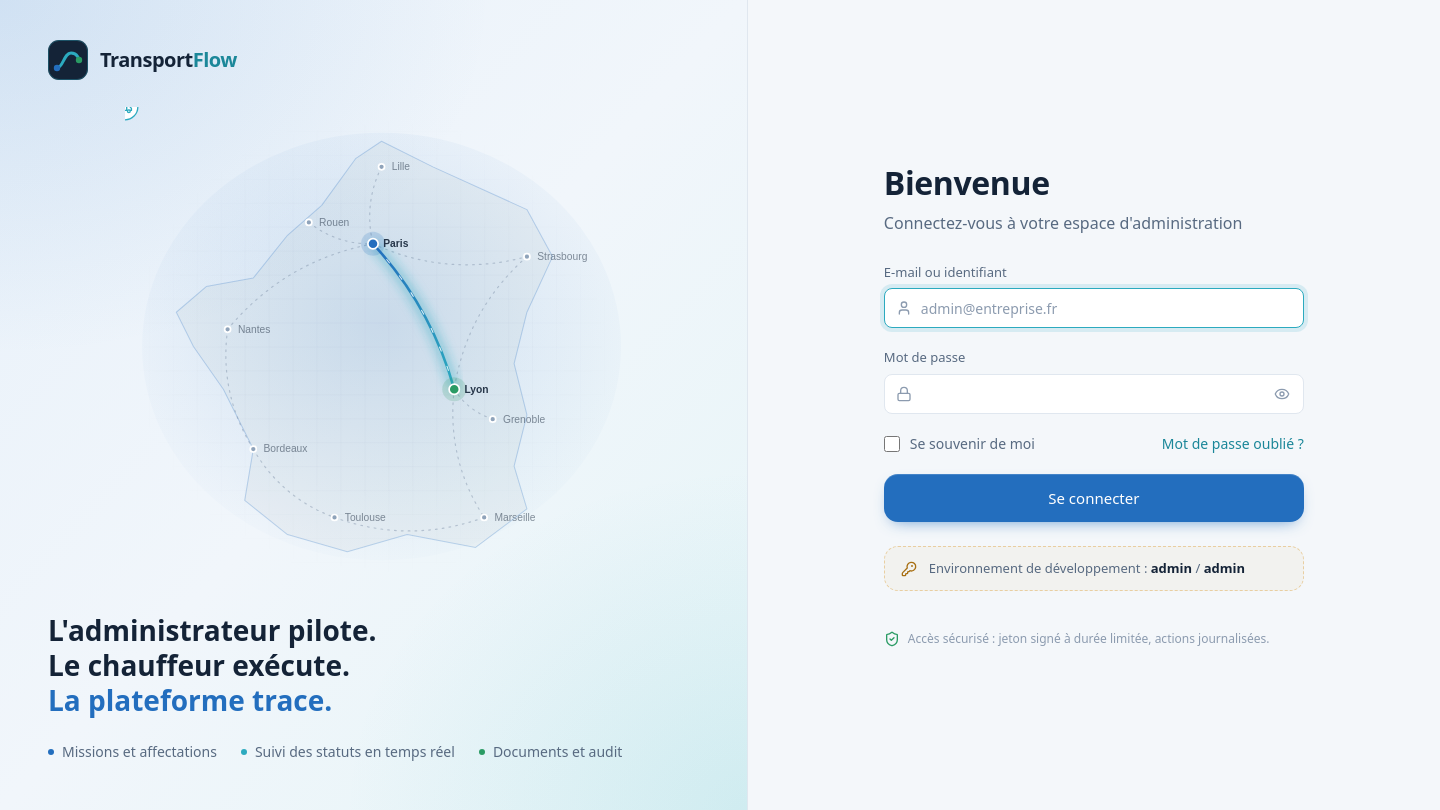
Test: Connexion › refuse un compte chauffeur sur l’administration
Step 1. Type "chauffeur" into the field labelled "E-mail ou identifiant" → (1094, 308), box [884, 288, 1304, 328]
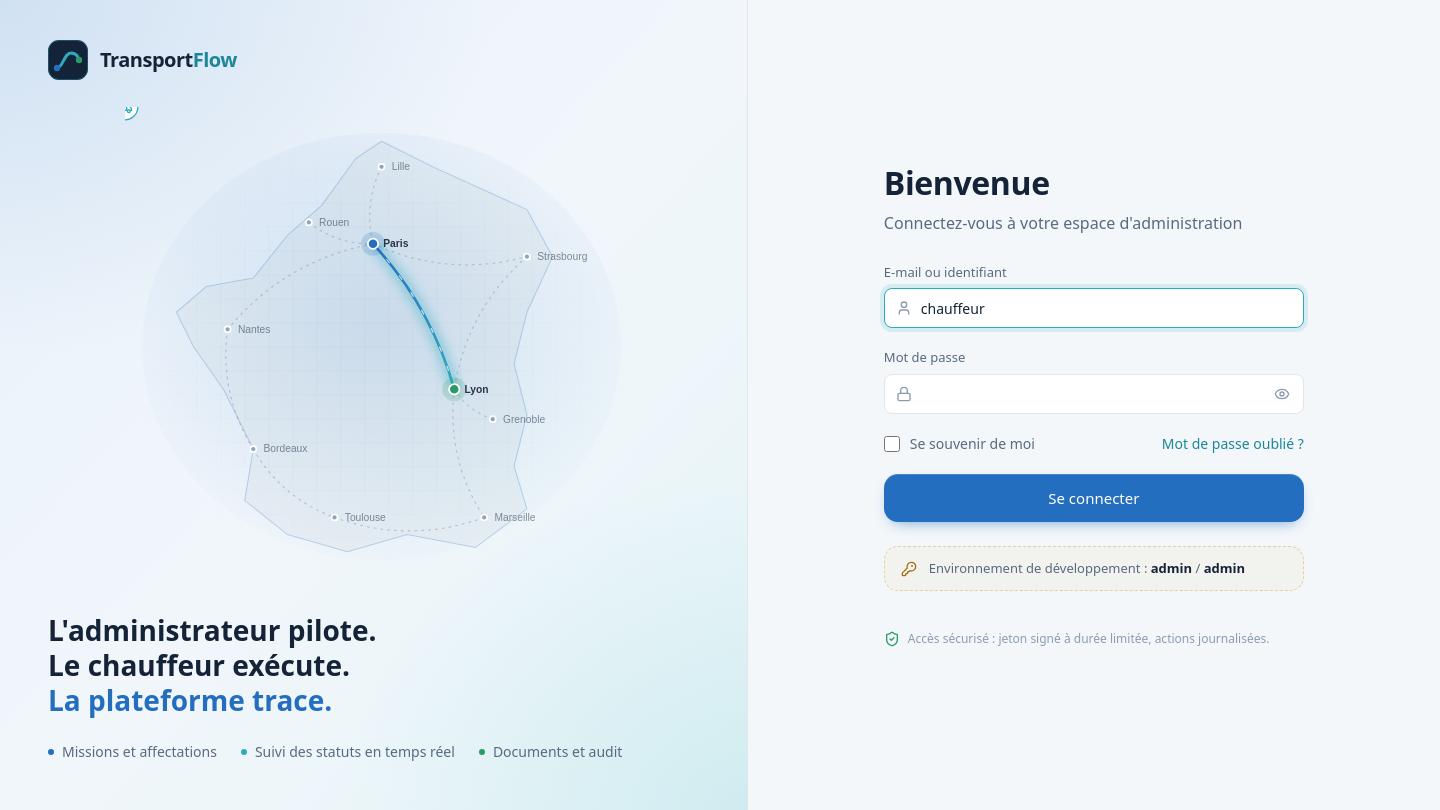
Step 2. Type "x" into the password field labelled "Mot de passe" → (1094, 394), box [884, 374, 1304, 414]
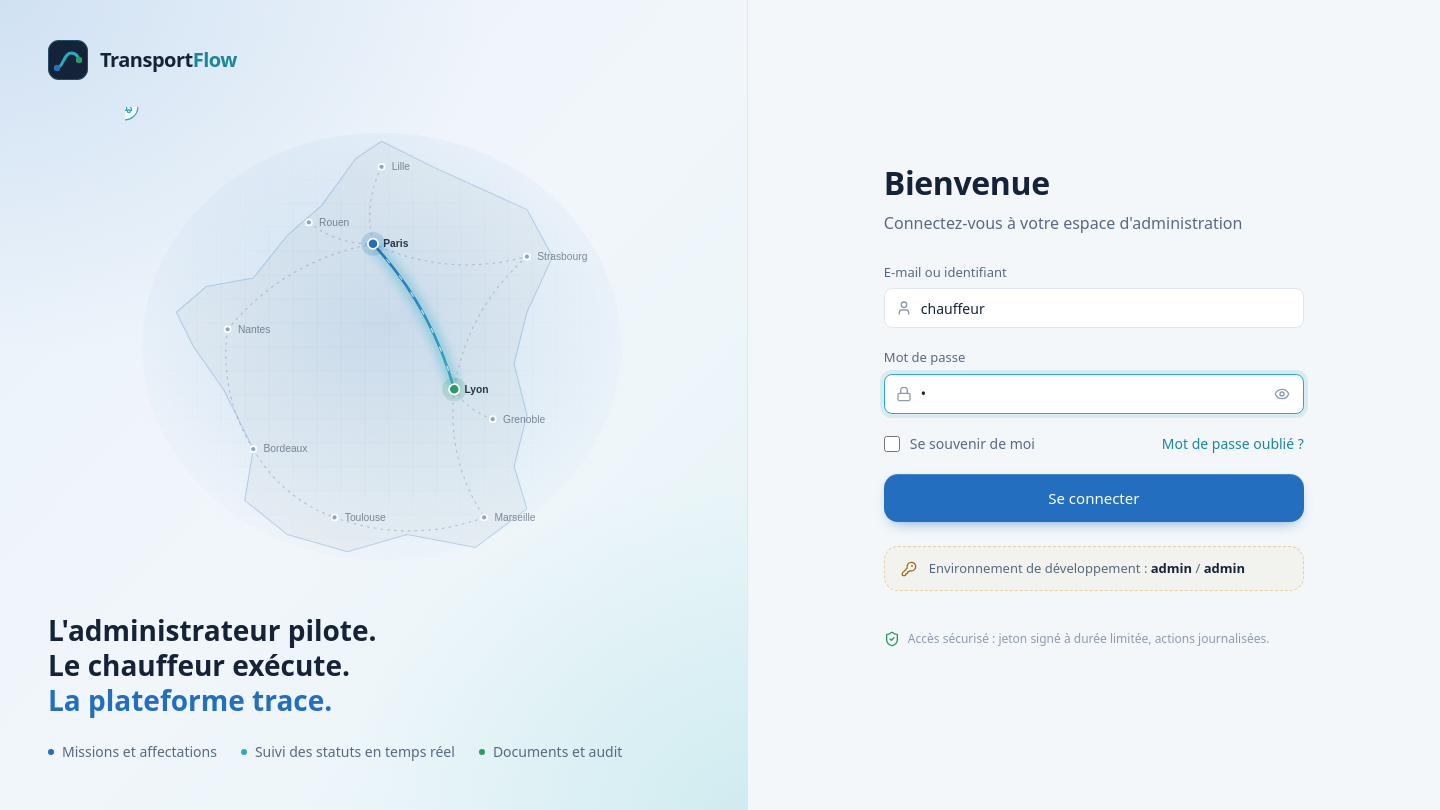
Step 3. Click the button "Se connecter" → (1094, 498), box [884, 474, 1304, 522]
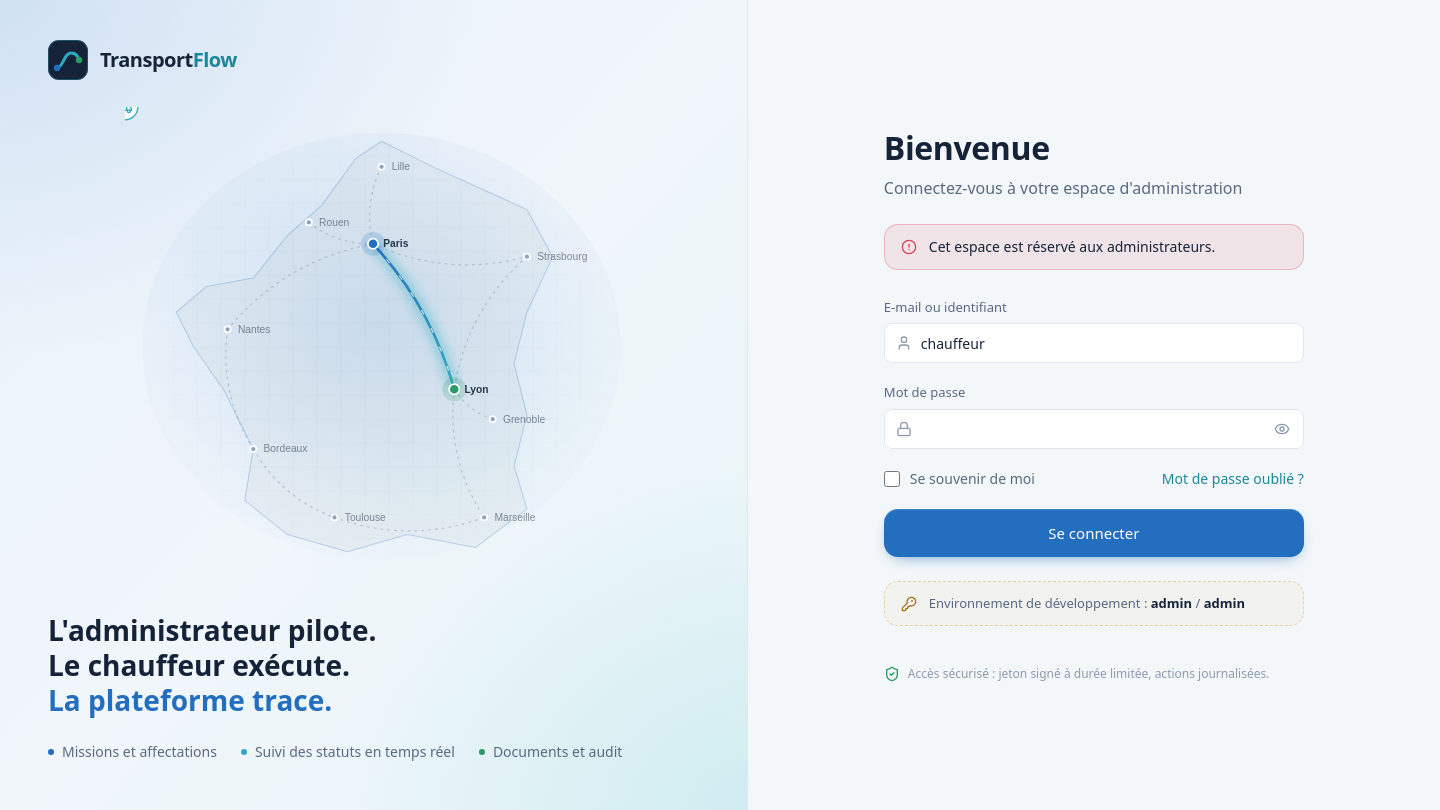
Now the message shows "réservé aux administrateurs", box [929, 237, 1215, 256]
